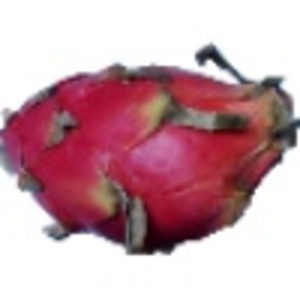pitaia: (1, 43, 300, 256)
